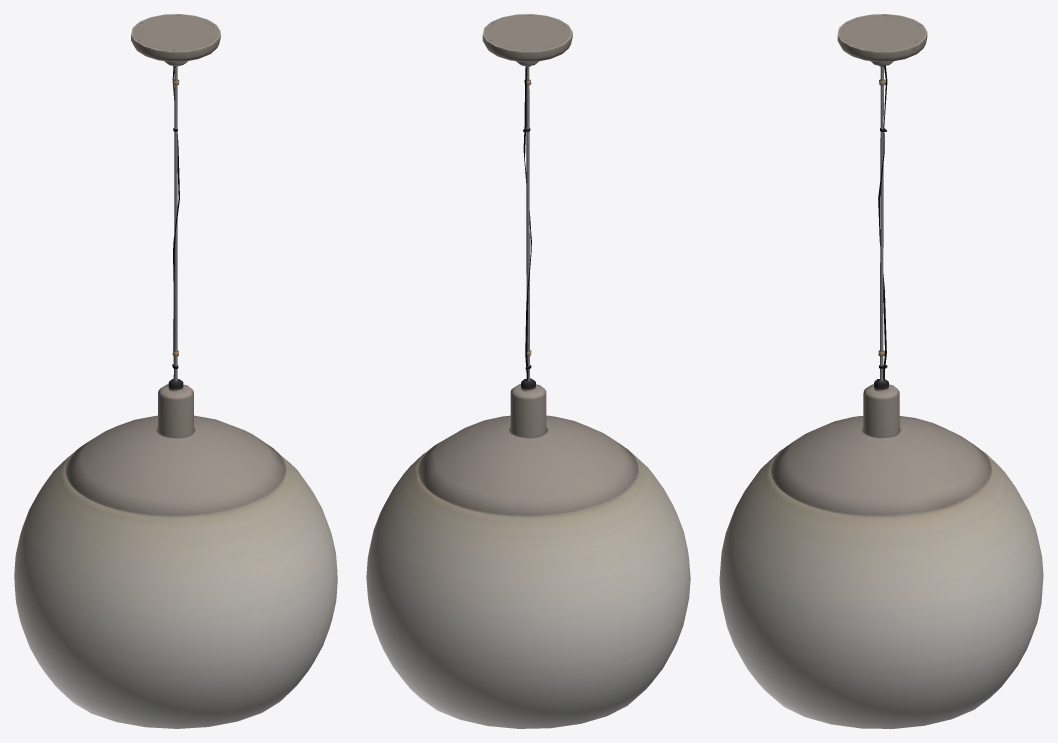
File: pendant.glb
The picture shows the model from 3 angles, left to right: view 1: azimuth 30°, elevation 25°; view 2: azimuth 150°, elevation 25°; view 3: azimuth 270°, elevation 25°; orthographic projection.
Visible parts, largest first — view 1: modern_ceiling_lamp_01; view 2: modern_ceiling_lamp_01; view 3: modern_ceiling_lamp_01.
Boxes of the visible parts, x1,y1,x2,y2 form: modern_ceiling_lamp_01: [14, 14, 337, 728]; modern_ceiling_lamp_01: [366, 14, 690, 728]; modern_ceiling_lamp_01: [719, 14, 1043, 728].
Bounding box in the file's own units: 0.4316 × 0.9512 × 0.4316.
Materials: 2 (2 with a texture image).
